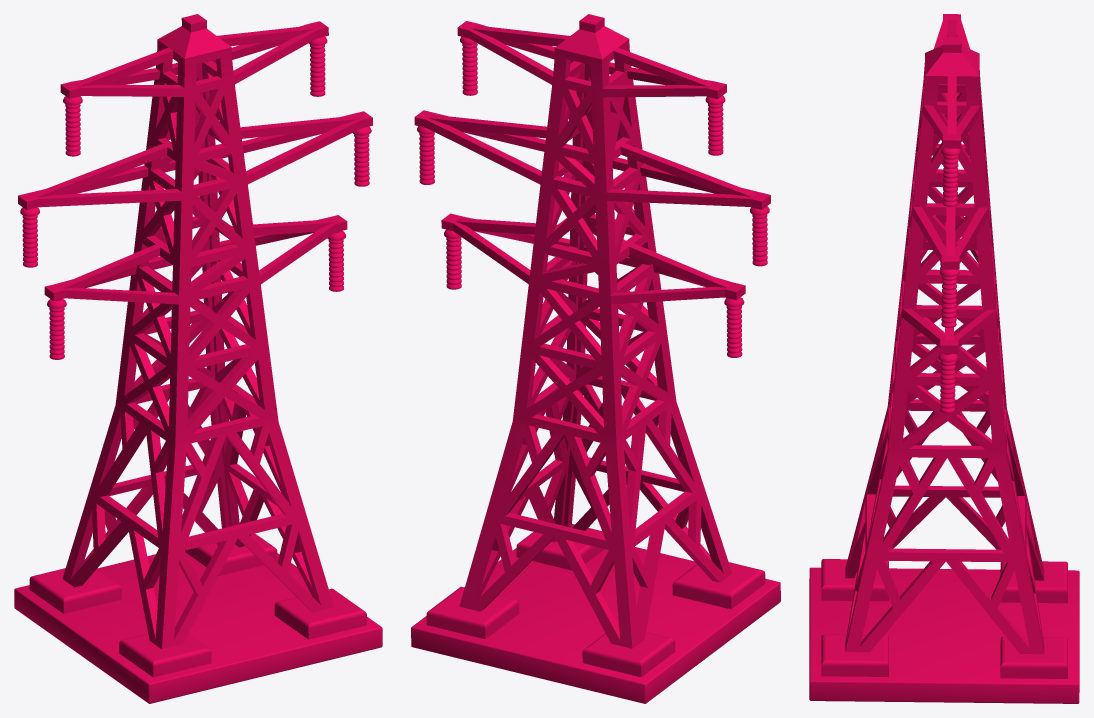
The model's file is Transmission_Tower_Red.glb.
3 renders of one model, left to right at view 1: azimuth 30°, elevation 25°; view 2: azimuth 150°, elevation 25°; view 3: azimuth 270°, elevation 25°, orthographic.
Visible parts, largest first — view 1: 17492_Electricity_Transmission_Tower_v1; view 2: 17492_Electricity_Transmission_Tower_v1; view 3: 17492_Electricity_Transmission_Tower_v1.
Boxes of the visible parts, box(x1,y1,x2,y2) form: 17492_Electricity_Transmission_Tower_v1: box(14, 14, 382, 703); 17492_Electricity_Transmission_Tower_v1: box(411, 14, 780, 703); 17492_Electricity_Transmission_Tower_v1: box(809, 14, 1079, 703).
Bounding box in the file's own units: 373 × 621 × 251.
